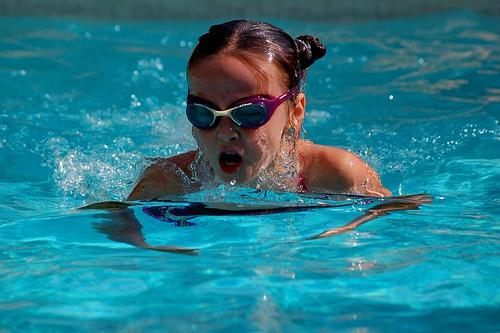human: (119, 18, 395, 209)
